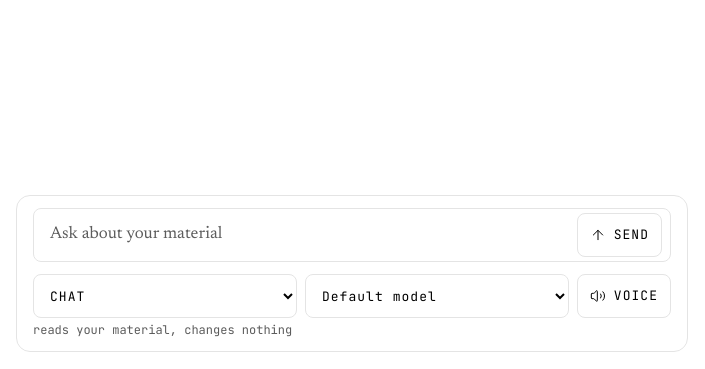
Test: the agent bar › starts as one line and lifts into a panel when the field takes focus
Expected: the text "answers come from your material" is not shown
Click the text box labelled "Ask about your material" at x=305, y=235, box [42,213,569,257]
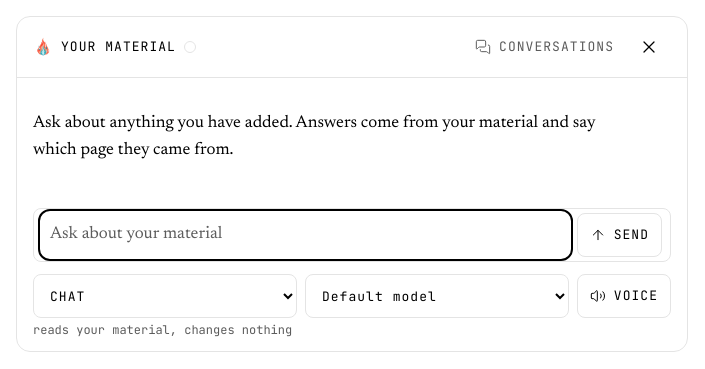
Result: the text "Answers come from your material" is shown at [33,115,595,159]
